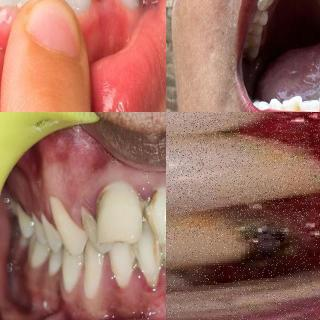Gum Swelling: (261, 112, 320, 266), (40, 161, 166, 231), (58, 253, 166, 316)
calculus: (125, 187, 159, 232), (88, 177, 112, 227), (123, 242, 147, 276), (79, 206, 101, 241), (150, 242, 166, 280)
cavities: (211, 217, 302, 276)
maligned: (95, 175, 141, 247), (81, 205, 109, 253), (145, 184, 166, 248), (300, 96, 320, 112), (290, 94, 306, 112)
stains: (292, 101, 304, 112)
